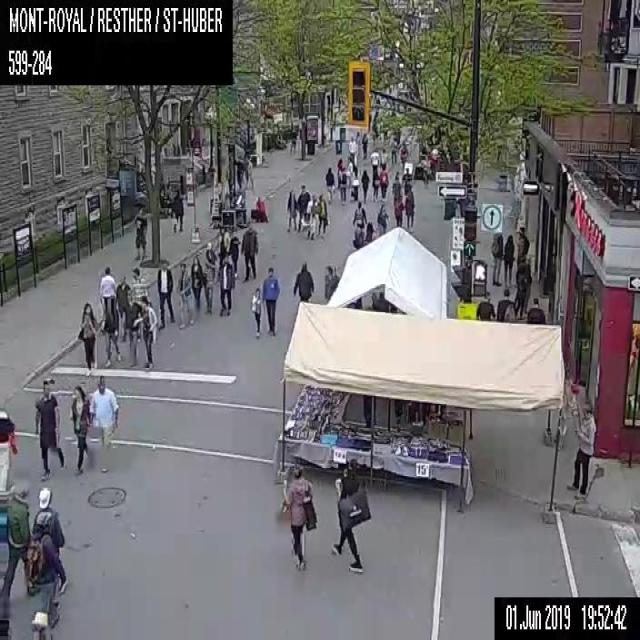pedestrian: (26, 510, 64, 632), (331, 457, 370, 572), (282, 462, 317, 570), (0, 484, 31, 605), (31, 487, 64, 593), (34, 378, 64, 478), (566, 403, 596, 499), (89, 374, 118, 472), (68, 386, 91, 476), (77, 301, 101, 376), (100, 288, 120, 366), (0, 409, 18, 490), (138, 294, 157, 369), (157, 260, 175, 330), (261, 266, 279, 335), (176, 261, 193, 329), (216, 254, 234, 316), (240, 223, 258, 280), (127, 266, 150, 308), (292, 261, 314, 301), (116, 274, 130, 336), (127, 297, 138, 366), (303, 193, 319, 240), (514, 256, 526, 317), (495, 288, 517, 321), (99, 266, 116, 308), (189, 255, 202, 309), (134, 207, 147, 259), (514, 225, 530, 267), (30, 610, 53, 639), (490, 232, 502, 286), (201, 262, 214, 311), (296, 184, 309, 232), (250, 287, 262, 337), (503, 233, 514, 287), (475, 292, 495, 320), (323, 265, 339, 298), (317, 192, 328, 237), (172, 187, 183, 232), (526, 296, 544, 322), (250, 196, 268, 222), (403, 186, 414, 228), (229, 231, 239, 277), (351, 219, 366, 248), (286, 188, 296, 231), (376, 203, 389, 236), (352, 200, 366, 230), (524, 254, 531, 312), (205, 242, 216, 276), (244, 154, 254, 189), (338, 167, 347, 204), (350, 167, 360, 200), (218, 226, 229, 256), (393, 194, 403, 227), (325, 166, 334, 202), (234, 154, 243, 190), (379, 166, 388, 200), (421, 154, 429, 186), (336, 157, 344, 188), (361, 169, 368, 204), (348, 135, 357, 161), (402, 167, 412, 190), (372, 168, 379, 200), (391, 176, 402, 195), (366, 220, 375, 242), (369, 148, 378, 170), (390, 137, 397, 165), (289, 126, 296, 154), (379, 147, 387, 169), (361, 132, 367, 159), (354, 130, 360, 157), (400, 144, 407, 167), (346, 156, 352, 174), (394, 170, 398, 179)
